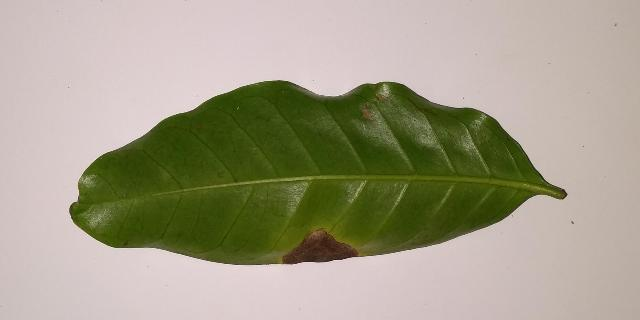cercospora: (282, 230, 358, 264)
